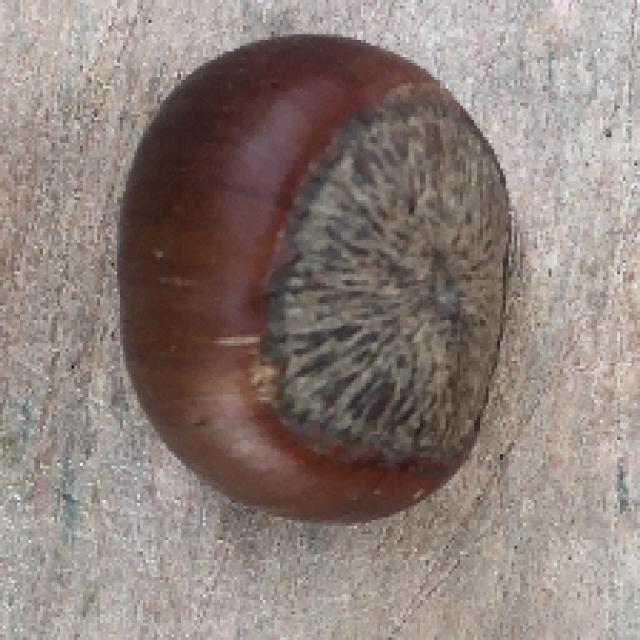DamagedHazelnut: (122, 34, 518, 518)
